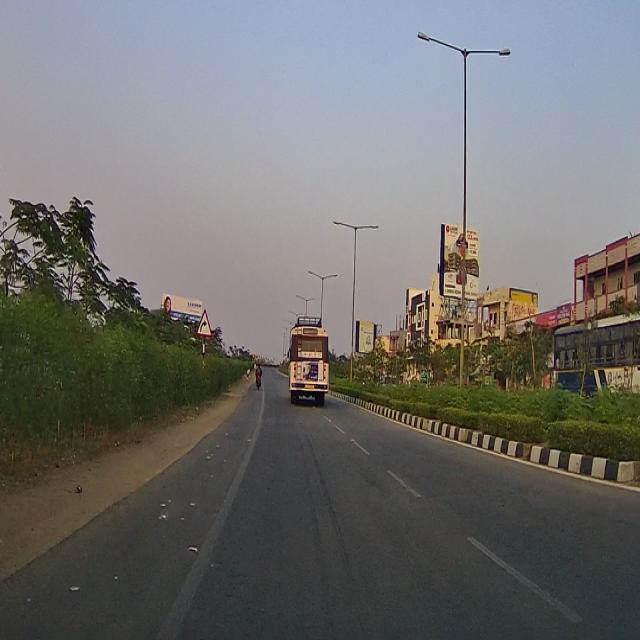right-hand-curve: (198, 310, 214, 338)
